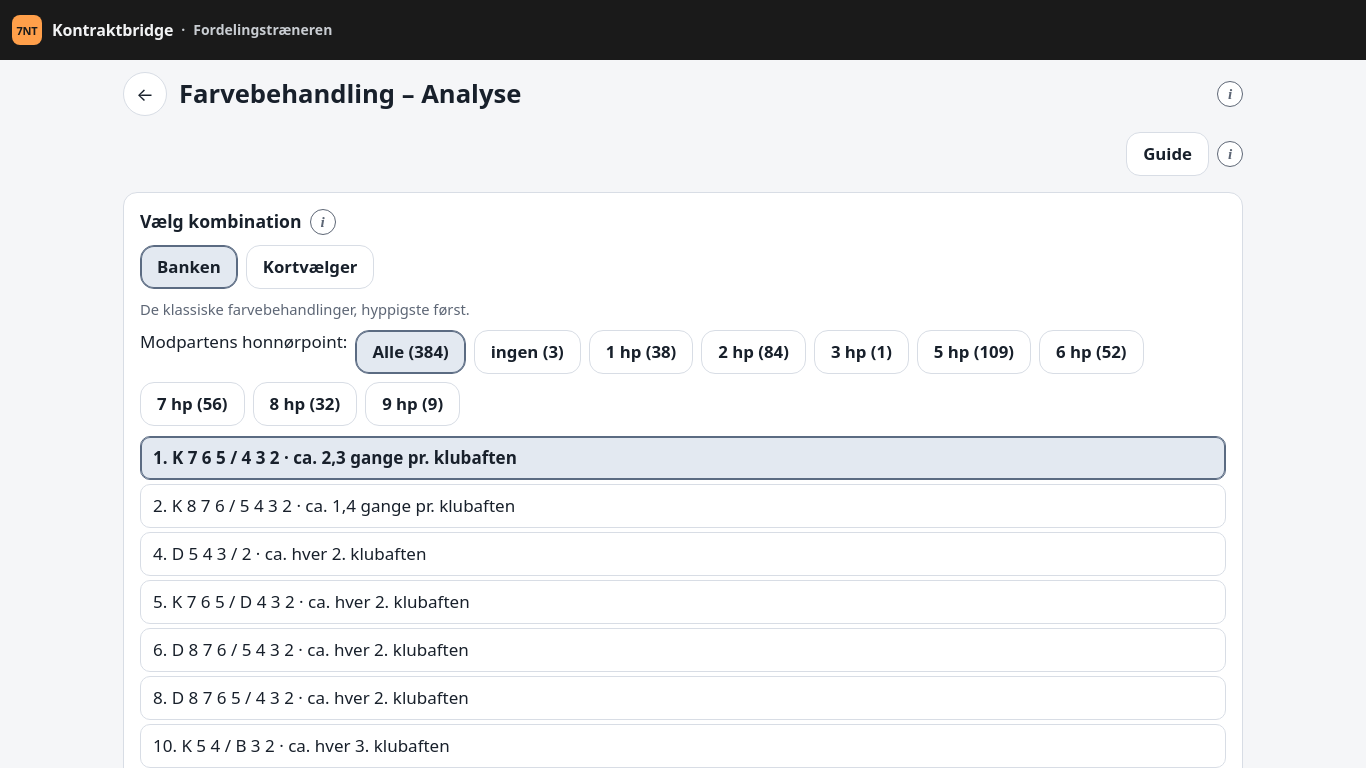
Test: Analyse som selvstændigt modul (SPEC-analyse-modul.md, trin 1) › Tilbage fra modulet som første adresse fører til forsiden uden adresse
expect the heading "Farvebehandling – Analyse" is shown: met, box [179,76,521,111]
Click the button named "Tilbage til forsiden".
click(145, 94)  # box [123,72,167,116]
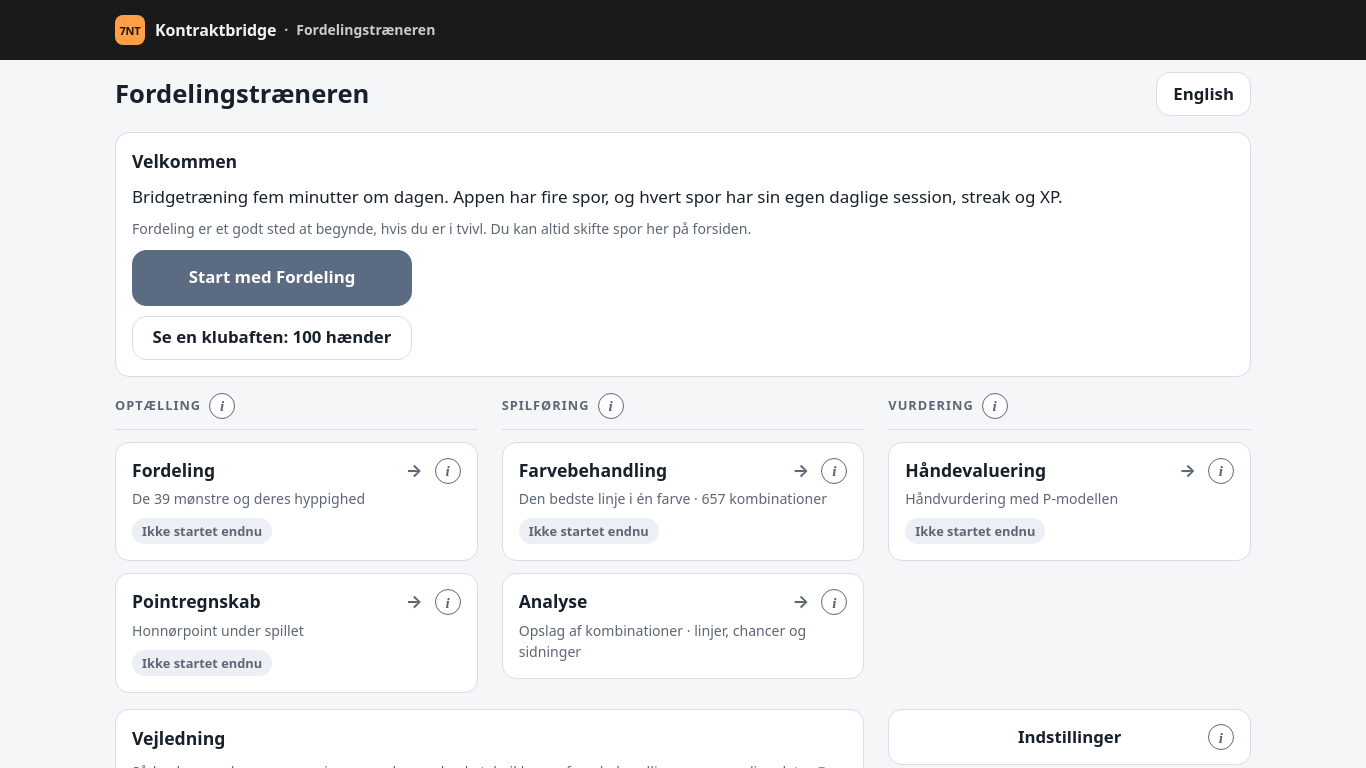
expect the heading "Fordelingstræneren" is shown: met, box [115,76,369,111]
